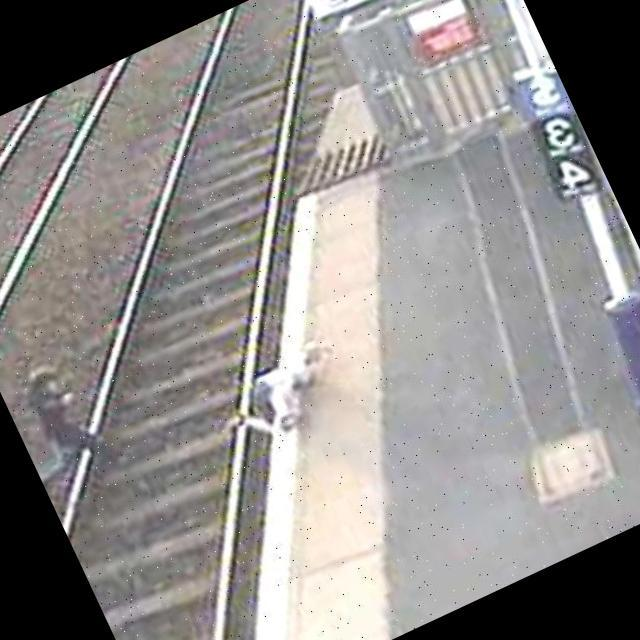person: (0, 329, 149, 526), (216, 318, 369, 466)
